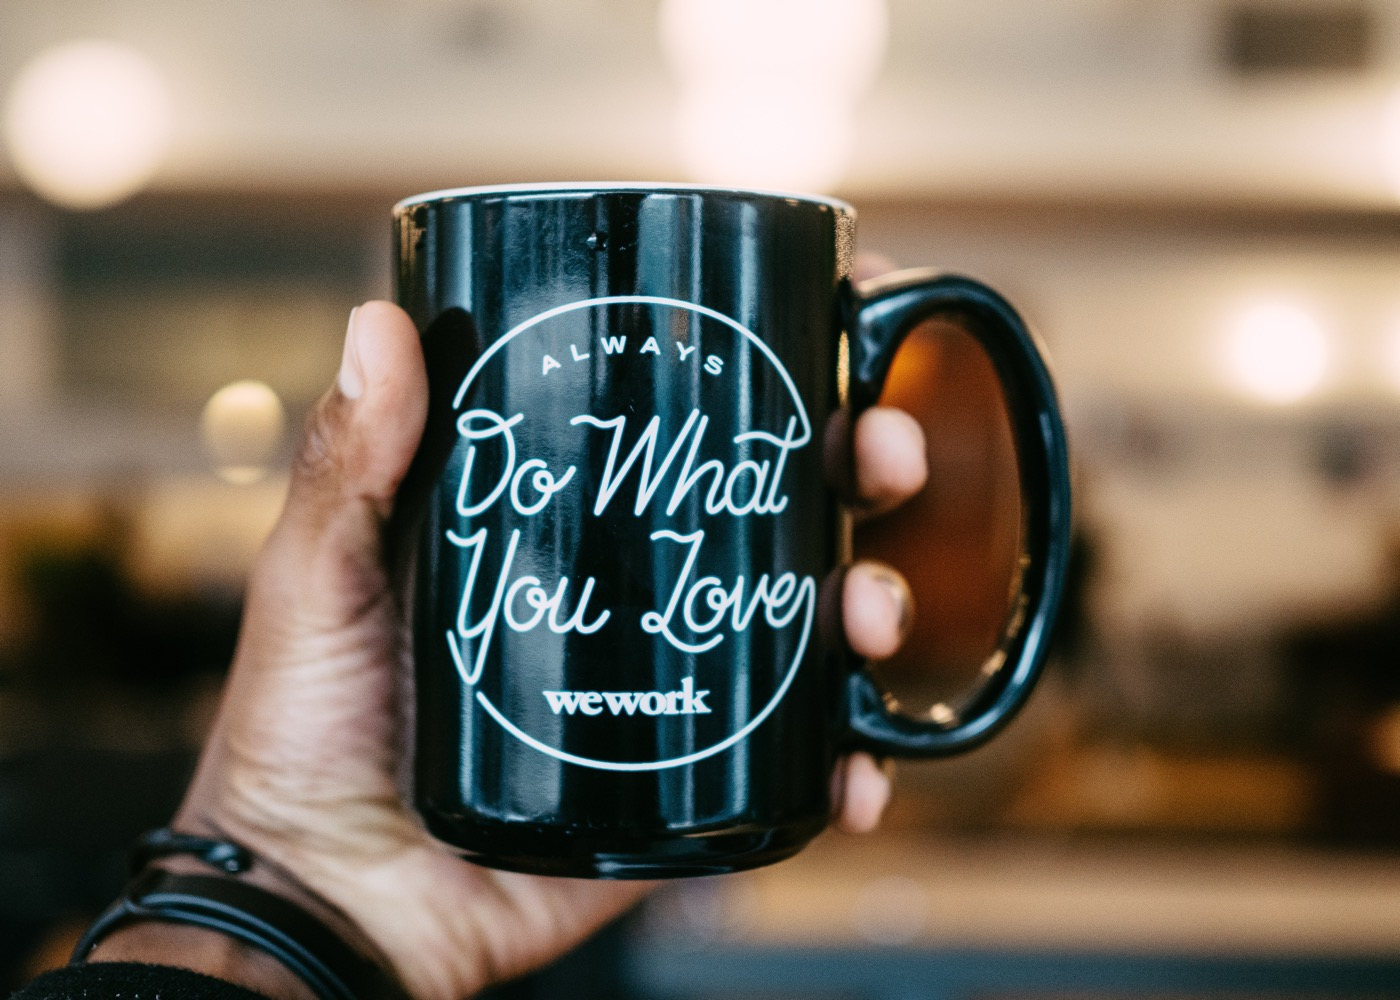wework: (538, 672, 717, 722)
